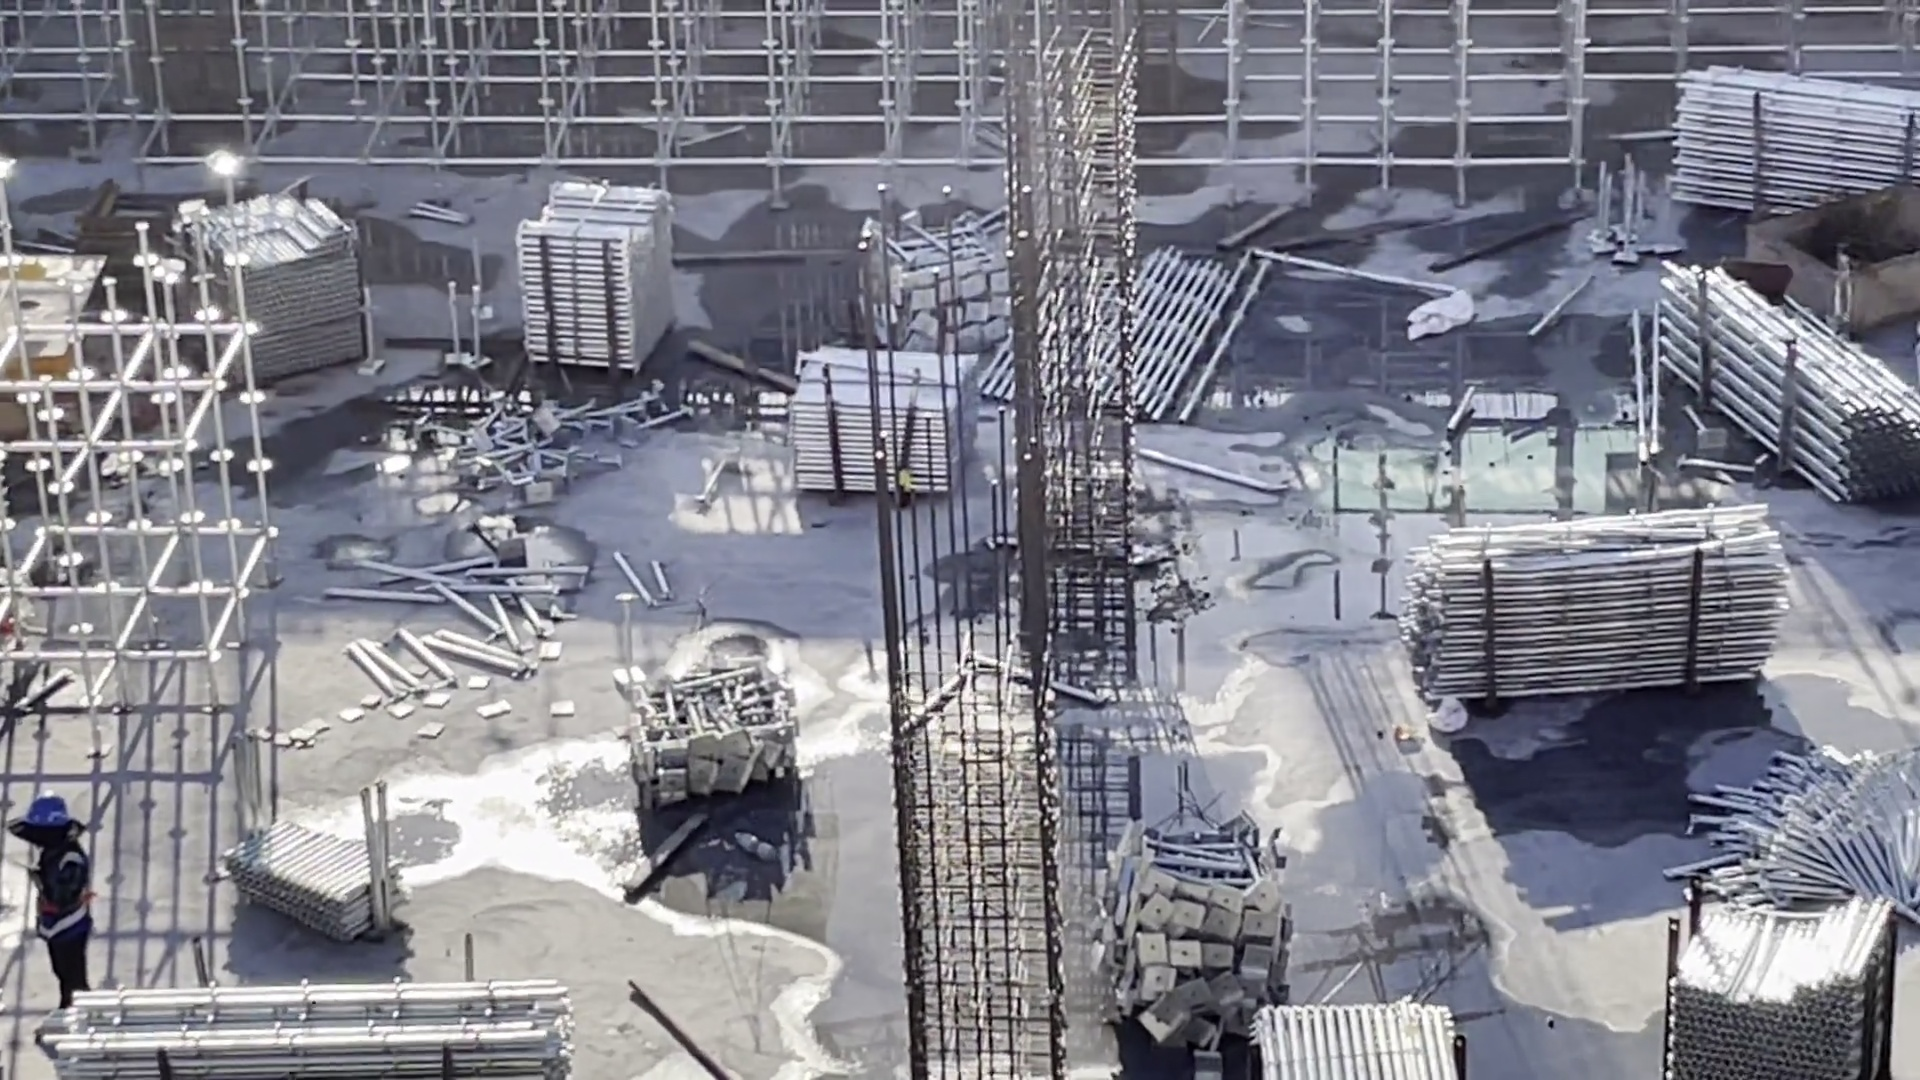helmet: (22, 785, 73, 820)
hopper: (1760, 179, 1920, 333)
person: (11, 779, 110, 1058)
scaffold: (1648, 261, 1920, 508), (1409, 527, 1759, 700), (42, 976, 582, 1080), (1658, 887, 1901, 1080), (1109, 836, 1297, 1056), (1682, 59, 1913, 221), (180, 194, 377, 373), (1711, 747, 1920, 889), (510, 181, 658, 373), (799, 341, 975, 500), (197, 803, 397, 928), (635, 668, 811, 792), (447, 383, 643, 487), (875, 231, 1024, 354), (1256, 999, 1468, 1080)
vest: (20, 840, 95, 934)
